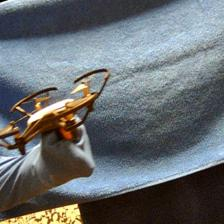drone: (2, 68, 111, 148)
